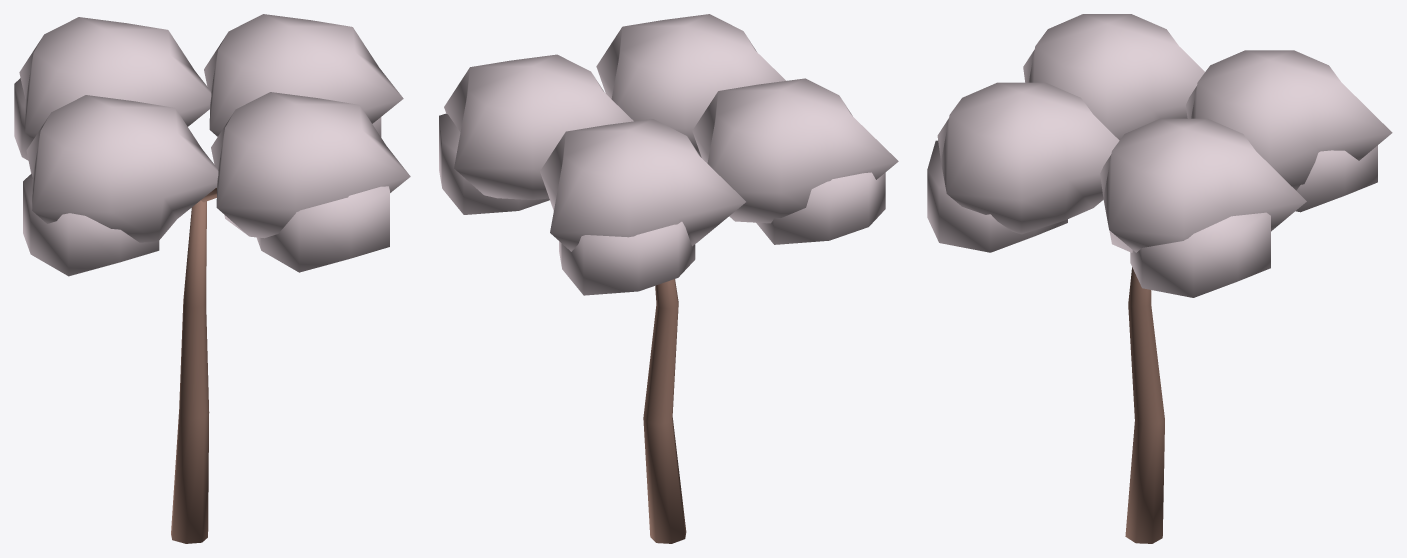
Rendered from tree_mountain_cherry.glb.
3 views of the same model, side by side, from view 1: azimuth 30°, elevation 25°; view 2: azimuth 150°, elevation 25°; view 3: azimuth 270°, elevation 25° (orthographic). The views are drawn at different scales.
Parts seen in each view (by area): view 1: Flora_Mountain_Cherry; view 2: Flora_Mountain_Cherry; view 3: Flora_Mountain_Cherry.
Part boxes in pixels (box(x1,y1,x2,y2)): Flora_Mountain_Cherry: box(14, 14, 410, 543); Flora_Mountain_Cherry: box(439, 14, 898, 543); Flora_Mountain_Cherry: box(927, 14, 1392, 543).
Size of the model in its own units: 6.34 by 6.97 by 6.31.
